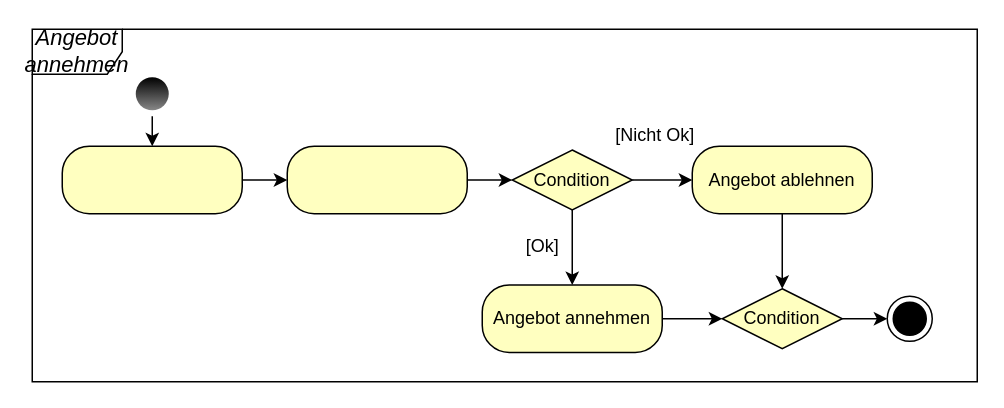
The diagram is 1004 pixels wide and 408 high, and some of its shapes have lost their labels. Each missing label, with the box of its shape:
Angebotsdetails prüfen: (286, 145, 467, 214)
Auftragsangebot eingegangen: (61, 145, 242, 214)
